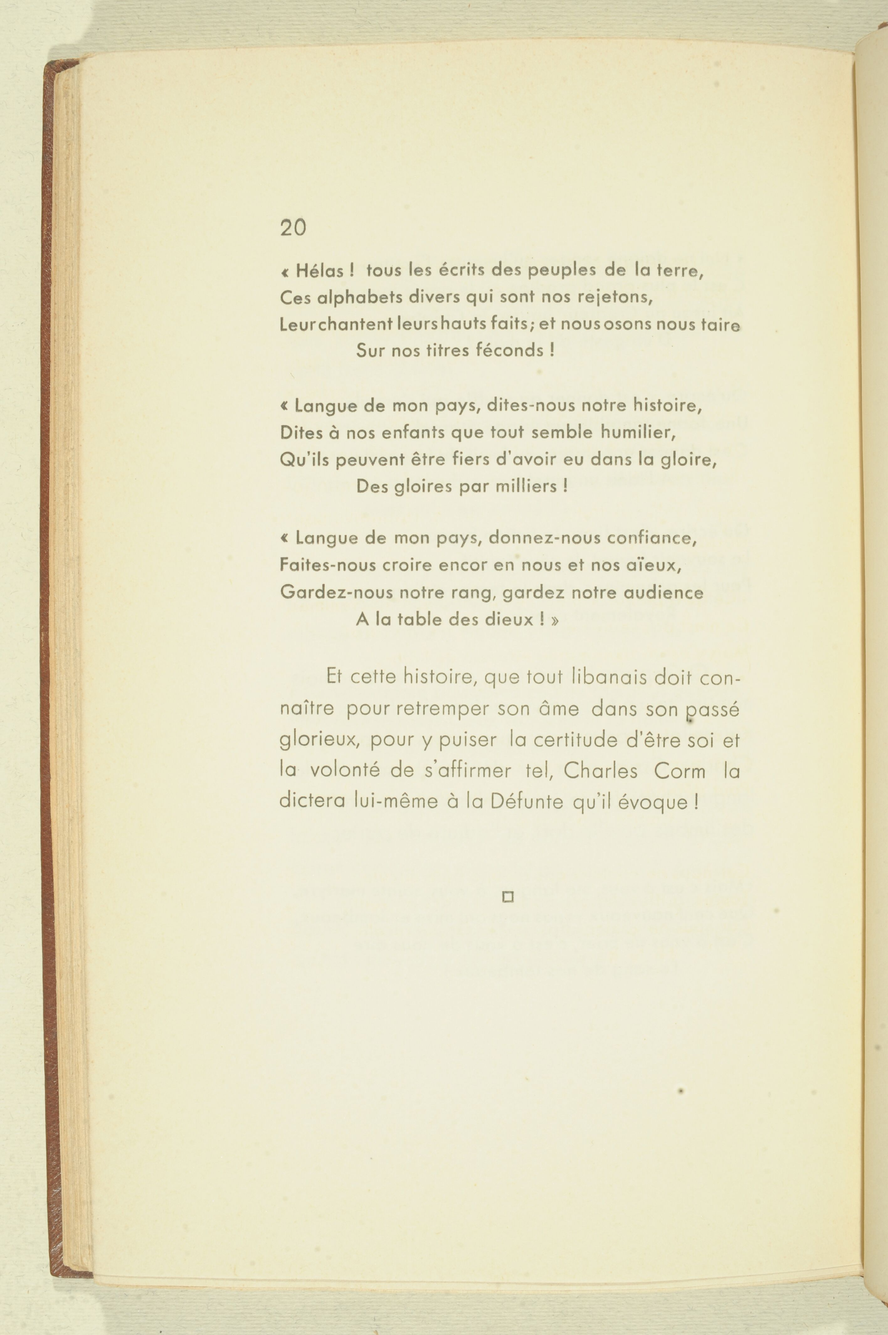LigneDeProse: (271, 689, 759, 718), (277, 756, 770, 784), (273, 787, 743, 816), (265, 728, 795, 752), (308, 666, 759, 689)
N°Page: (271, 196, 326, 251)
Vers: (261, 254, 727, 283), (267, 524, 723, 553), (266, 576, 720, 603), (255, 390, 737, 415), (259, 311, 751, 333), (274, 421, 701, 446), (263, 450, 741, 472), (275, 285, 662, 309), (273, 554, 687, 574), (349, 609, 582, 639), (343, 336, 573, 362), (346, 475, 577, 499)
